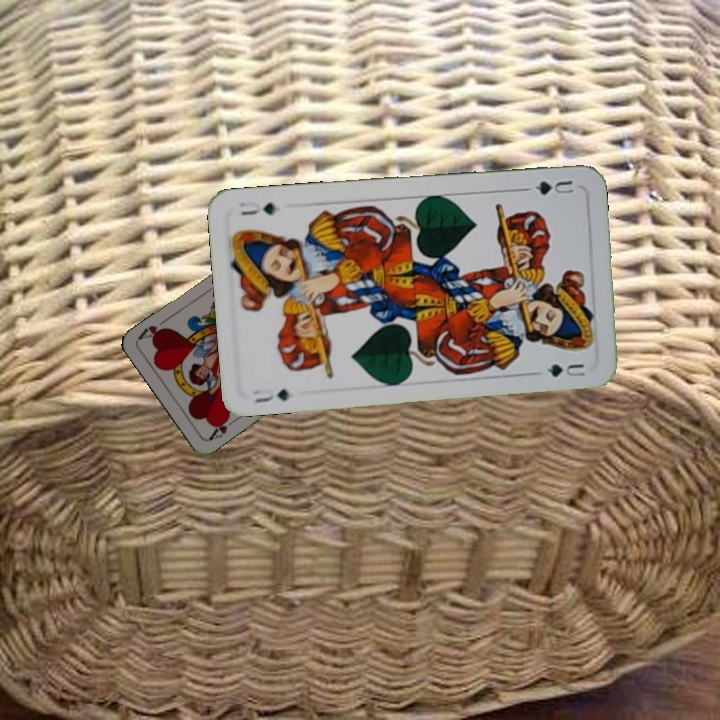GU: (521, 176, 576, 198), (249, 384, 293, 405)
HA: (204, 412, 240, 443)
